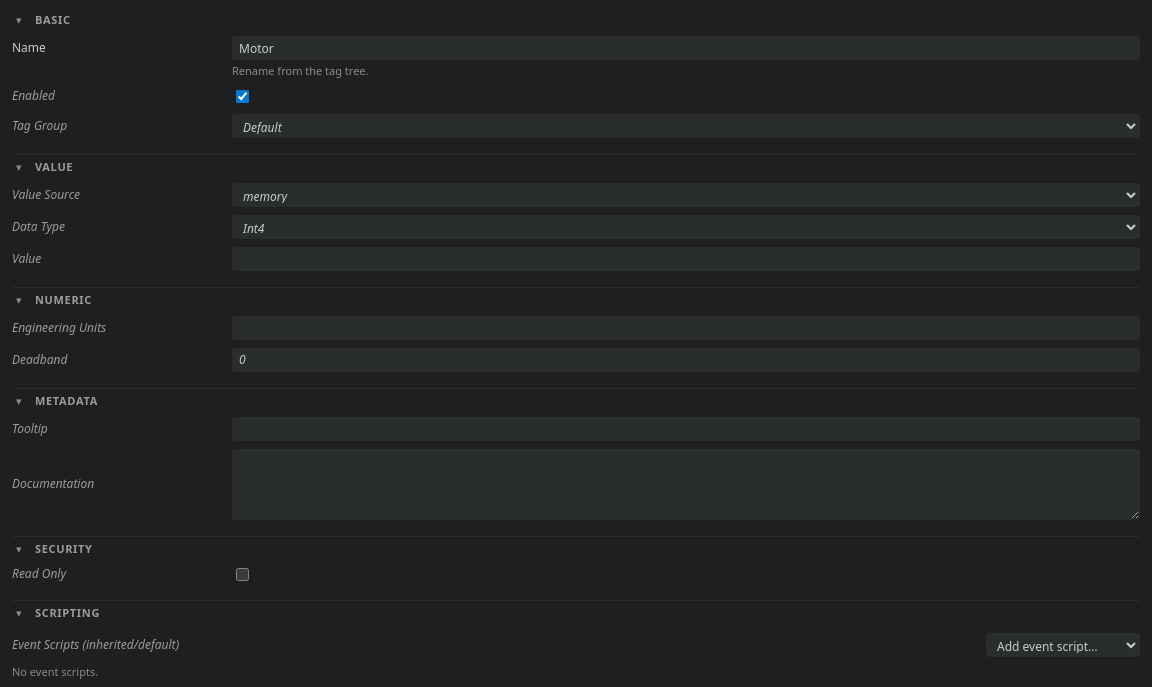
Test: TagPropertyForm › collapses a section from its heading button
Click the button "▾ Basic": (53, 20) [12, 8, 1140, 32]
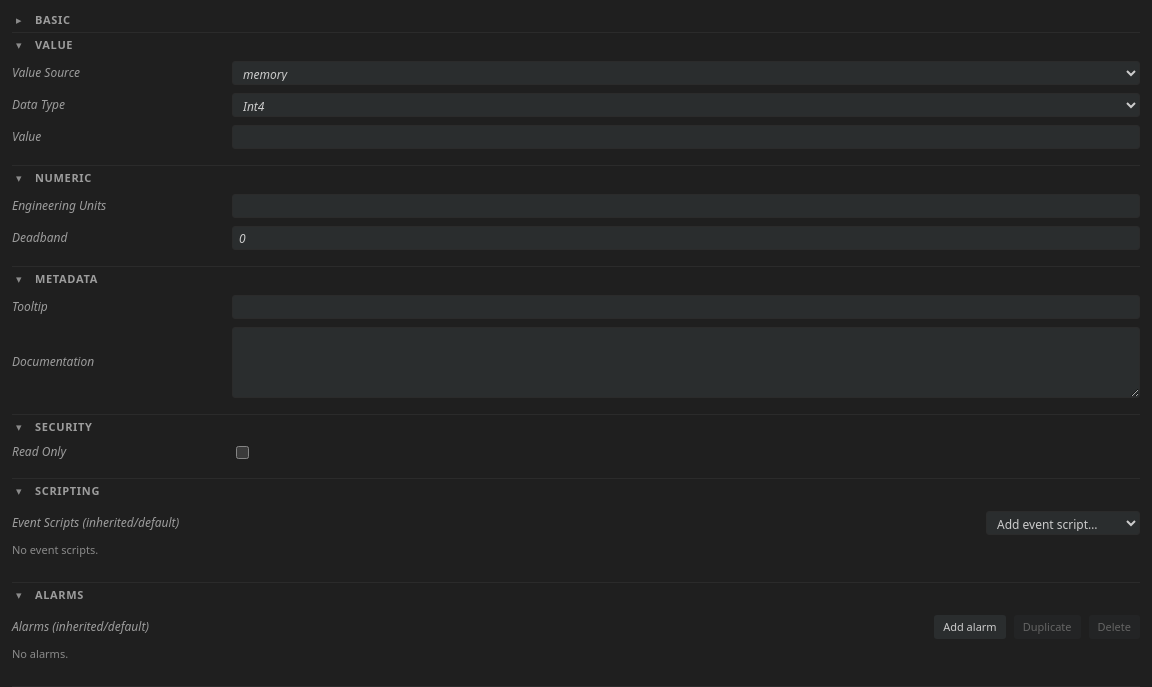
Expected: the button "▸ Basic" is collapsed, [12, 8, 1140, 32]
